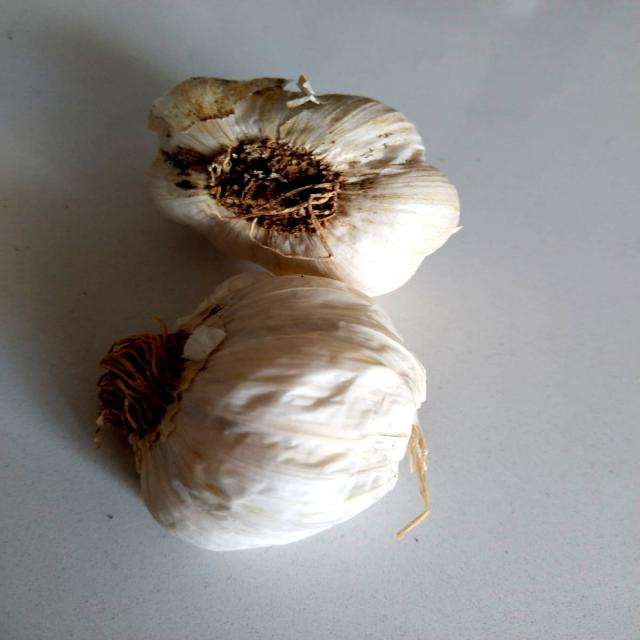garlic: (55, 259, 501, 556), (110, 23, 530, 285)
